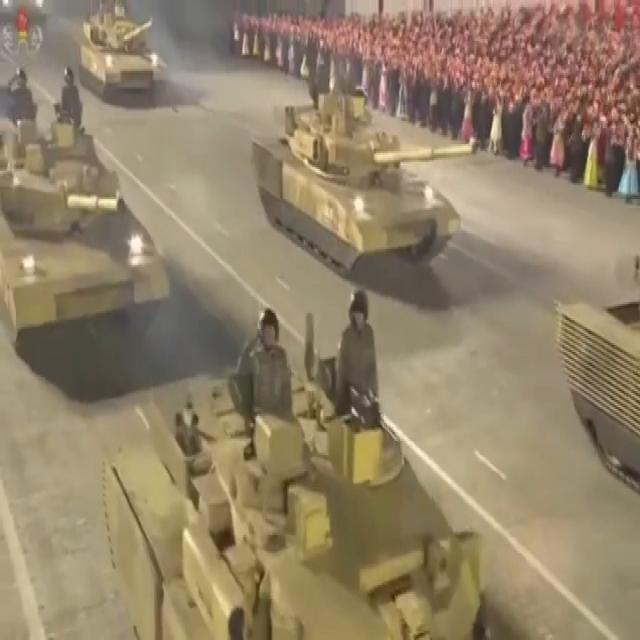north tank: (82, 304, 510, 640), (244, 50, 486, 282), (2, 96, 184, 353), (530, 193, 640, 529), (73, 0, 178, 131)
